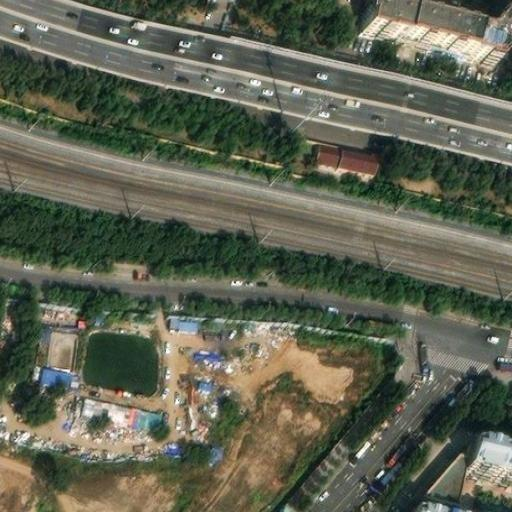building: (362, 0, 512, 65), (310, 140, 380, 178), (426, 446, 469, 497), (464, 441, 512, 481), (80, 391, 131, 421), (128, 398, 163, 426), (408, 498, 460, 512), (41, 361, 72, 382), (169, 312, 201, 325)
